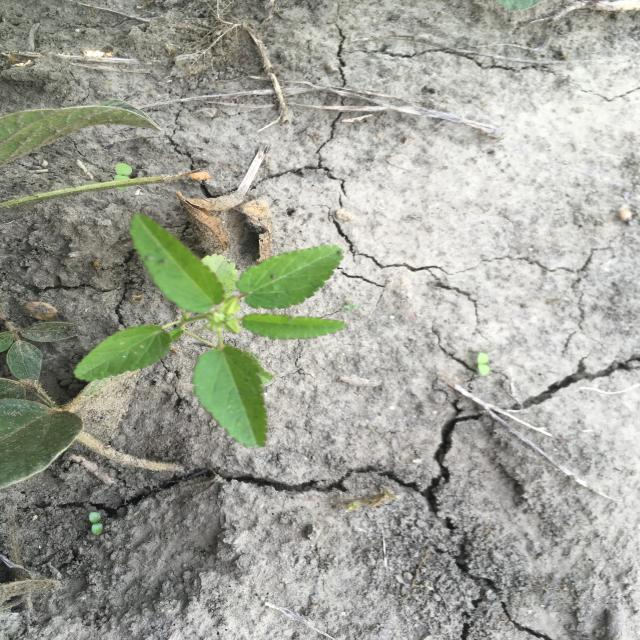PricklySida: (72, 210, 350, 452)
